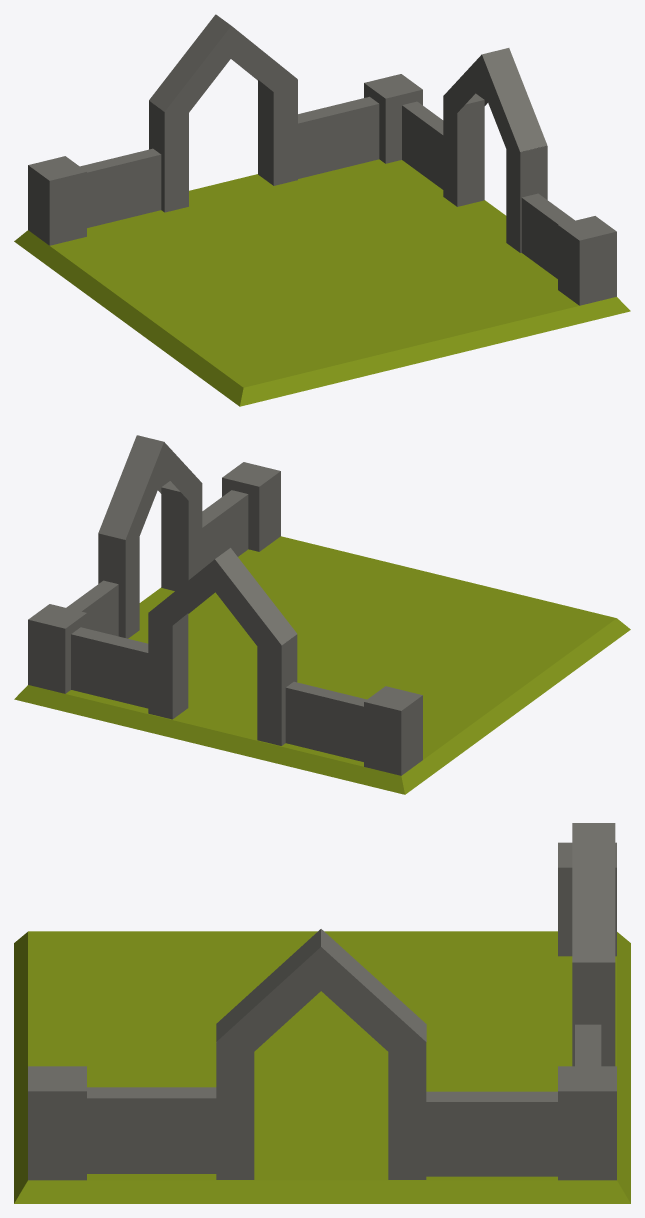
Rendered from cemetery_corner.fbx.
3 views of the same model, one above another, from view 1: azimuth 30°, elevation 25°; view 2: azimuth 150°, elevation 25°; view 3: azimuth 270°, elevation 25° (orthographic). The views are drawn at different scales.
Visible parts, largest first — view 1: polySurface3299; view 2: polySurface3299; view 3: polySurface3299.
Part boxes in pixels (box(x1,y1,x2,y2)): polySurface3299: box(14, 14, 630, 406); polySurface3299: box(14, 435, 630, 794); polySurface3299: box(14, 823, 630, 1203).
Size of the model in its own units: 105 by 48.03 by 105.
1 material, 1 textured.
